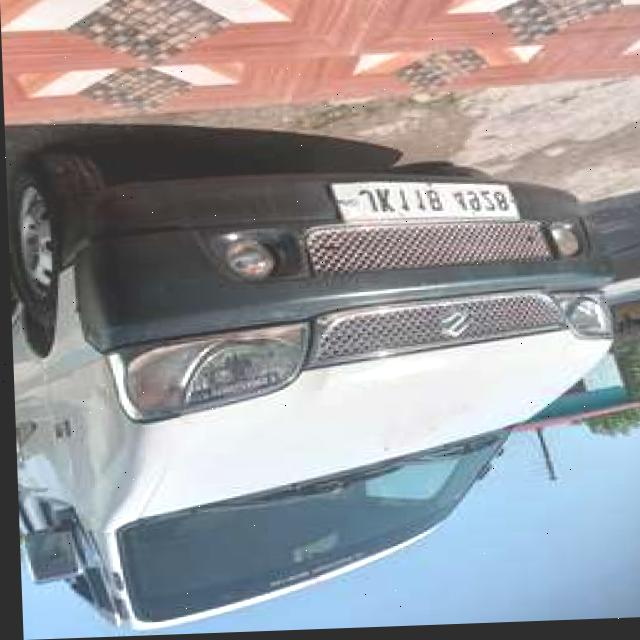plate: (326, 178, 515, 232)
